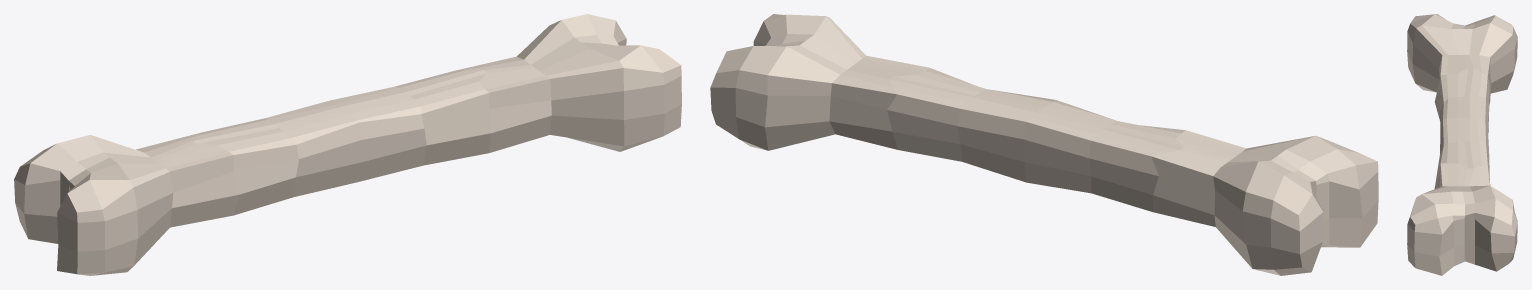
File: Bone.fbx
3 renders of one model, left to right at view 1: azimuth 30°, elevation 25°; view 2: azimuth 150°, elevation 25°; view 3: azimuth 270°, elevation 25°, orthographic. The views are drawn at different scales.
Parts seen in each view (by area): view 1: Cube; view 2: Cube; view 3: Cube.
Part boxes in pixels (x1=…): Cube: x1=14, y1=14, x2=681, y2=275; Cube: x1=710, y1=14, x2=1378, y2=275; Cube: x1=1407, y1=14, x2=1517, y2=275.
Bounding box in the file's own units: 39.24 × 6.31 × 8.76.
